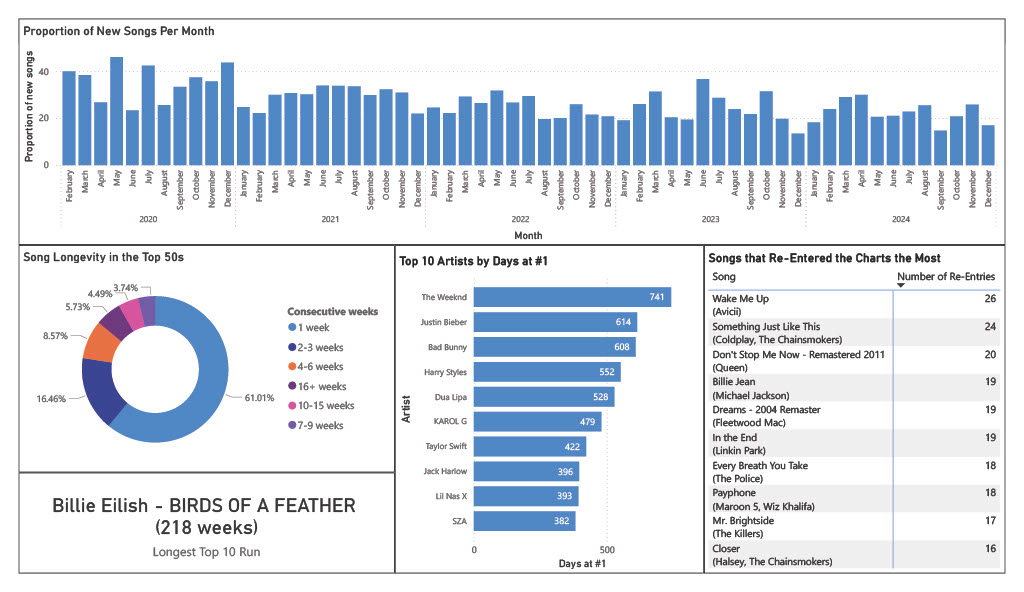

This screenshot's page, from the dashboard's own definition file:
{"tool":"powerbi","page":{"name":"Page 1","canvas":[1280,720],"ordinal":0},"visuals":[{"type":"columnChart","title":"Proportion of New Songs Per Month","fields":{"Y":["proportion_new_songs.proportion_new_songs"],"Category":["proportion_new_songs.month_start.Variation.Date Hierarchy.Year","proportion_new_songs.month_start.Variation.Date Hierarchy.Month"]},"box":[0,0,1280,294.3],"z":0},{"type":"clusteredBarChart","title":"Top 10 Artists by Days at #1","fields":{"Category":["top_10_artists.artist_name"],"Y":["top_10_artists.num_days_in_top_10"]},"box":[487.5,293.8,401.2,426.2],"z":1000},{"type":"donutChart","title":"Song Longevity in the Top 50s","fields":{"Category":["consecutive_days.consecutive_days_category"],"Y":["consecutive_days.num_tracks"]},"box":[0,293.8,487.5,295],"z":2000},{"type":"pivotTable","title":"Songs that Re-Entered the Charts the Most","fields":{"Rows":["chart_reentries.ArtistTrack"],"Values":["chart_reentries.number_reentries"]},"box":[888.8,293.8,391.2,426.2],"z":3000},{"type":"card","fields":{"Values":["longest_top_10_streaks.LongestTop10Run"]},"box":[0,588.8,487.5,131.2],"z":4000}]}

Visuals, with their boxes on the page's 1280x720 design canvas (x1, y1, x2, y2). These are canvas units, not pixel positions in the 1024x592 screenshot, which may show the page scaled, cropped or inside an application window:
"Proportion of New Songs Per Month" columnChart: (x1=0, y1=0, x2=1280, y2=294)
"Top 10 Artists by Days at #1" clusteredBarChart: (x1=488, y1=294, x2=889, y2=720)
"Song Longevity in the Top 50s" donutChart: (x1=0, y1=294, x2=488, y2=589)
"Songs that Re-Entered the Charts the Most" pivotTable: (x1=889, y1=294, x2=1280, y2=720)
card - longest_top_10_streaks.LongestTop10Run: (x1=0, y1=589, x2=488, y2=720)
